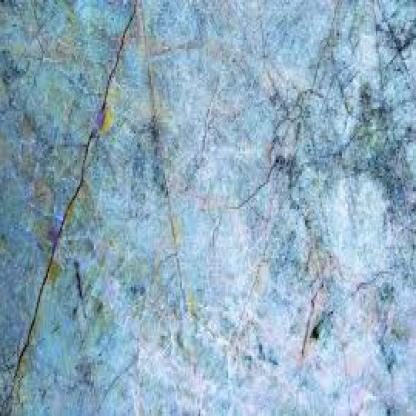Metamorphic_Marble: (1, 2, 414, 414)
